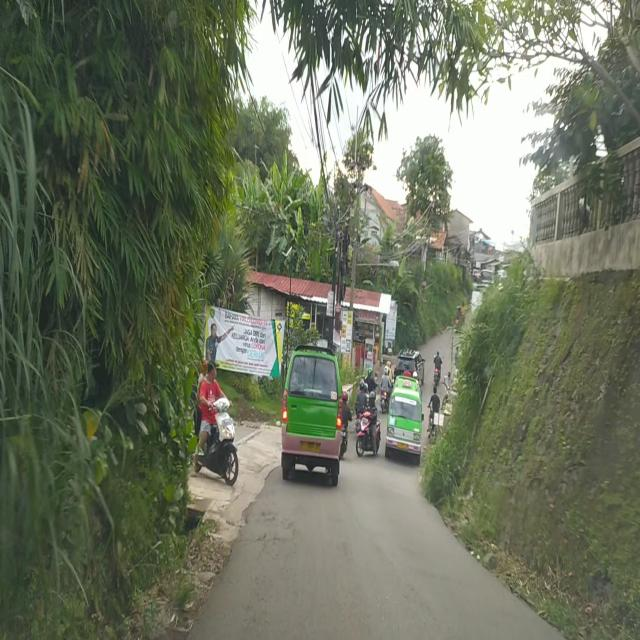Drain Hole: (242, 513, 300, 631)
